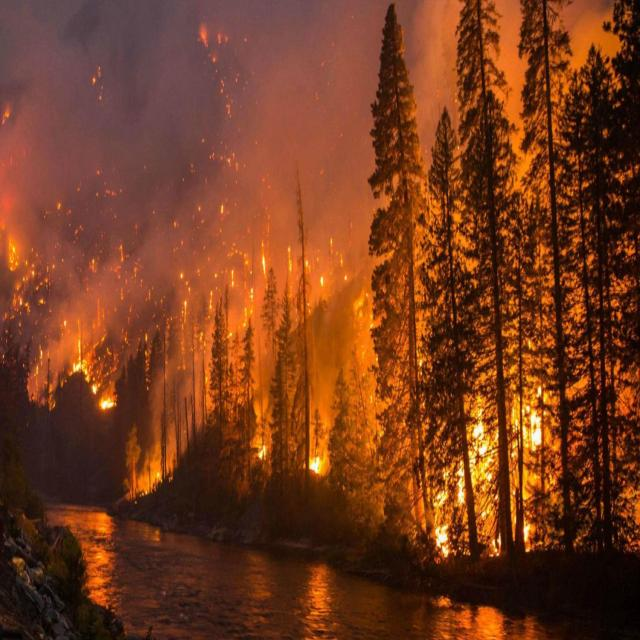Fire: (429, 348, 557, 580), (54, 345, 124, 413)
